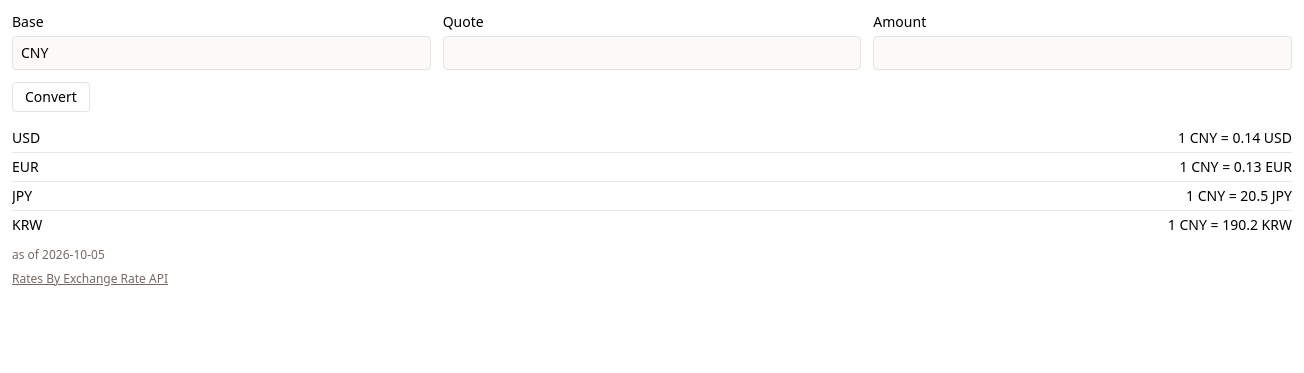
Test: RatesSection › keeps the previous rates visible and reports the server message when a code is rejected
This screenshot has width=1304, height=373.
Expected: the text "USD" is shown, [12,128,40,148]
Type "ABC" into the field labelled "Quote" at (652, 53), box [443,36,861,70]
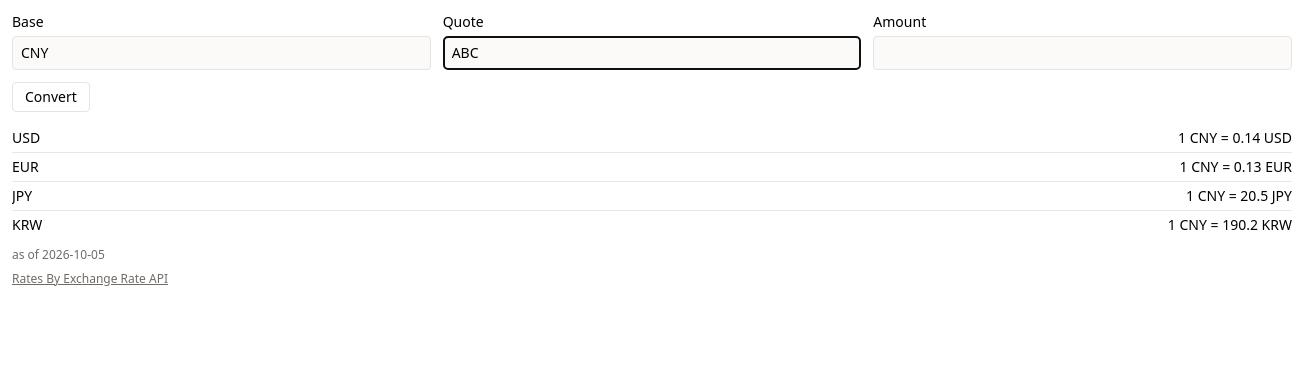
Click the button "Convert" at (51, 97), box [12,82,90,112]
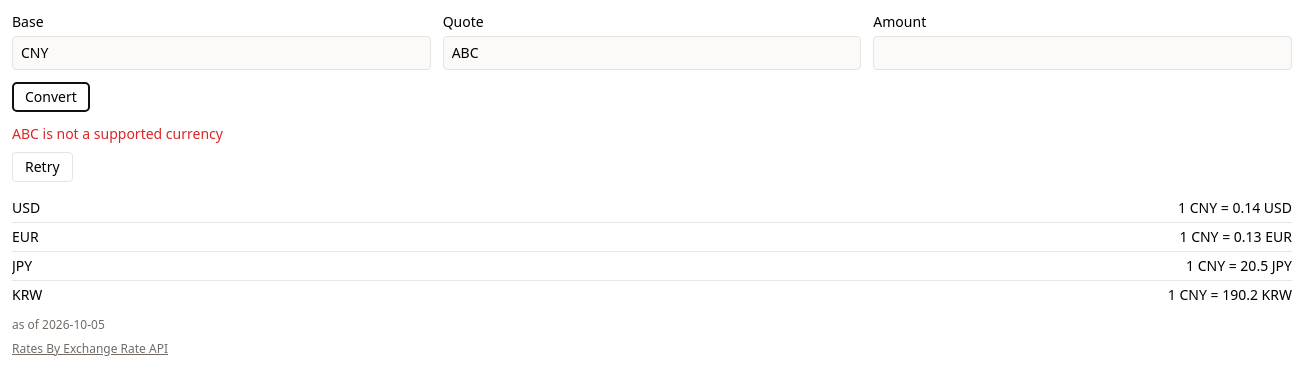
Expected: the text "1 CNY = 0.14 USD" is shown, [1178,198,1292,218]
Now the text "ABC is not a supported currency" is shown, box [12,124,223,143]
